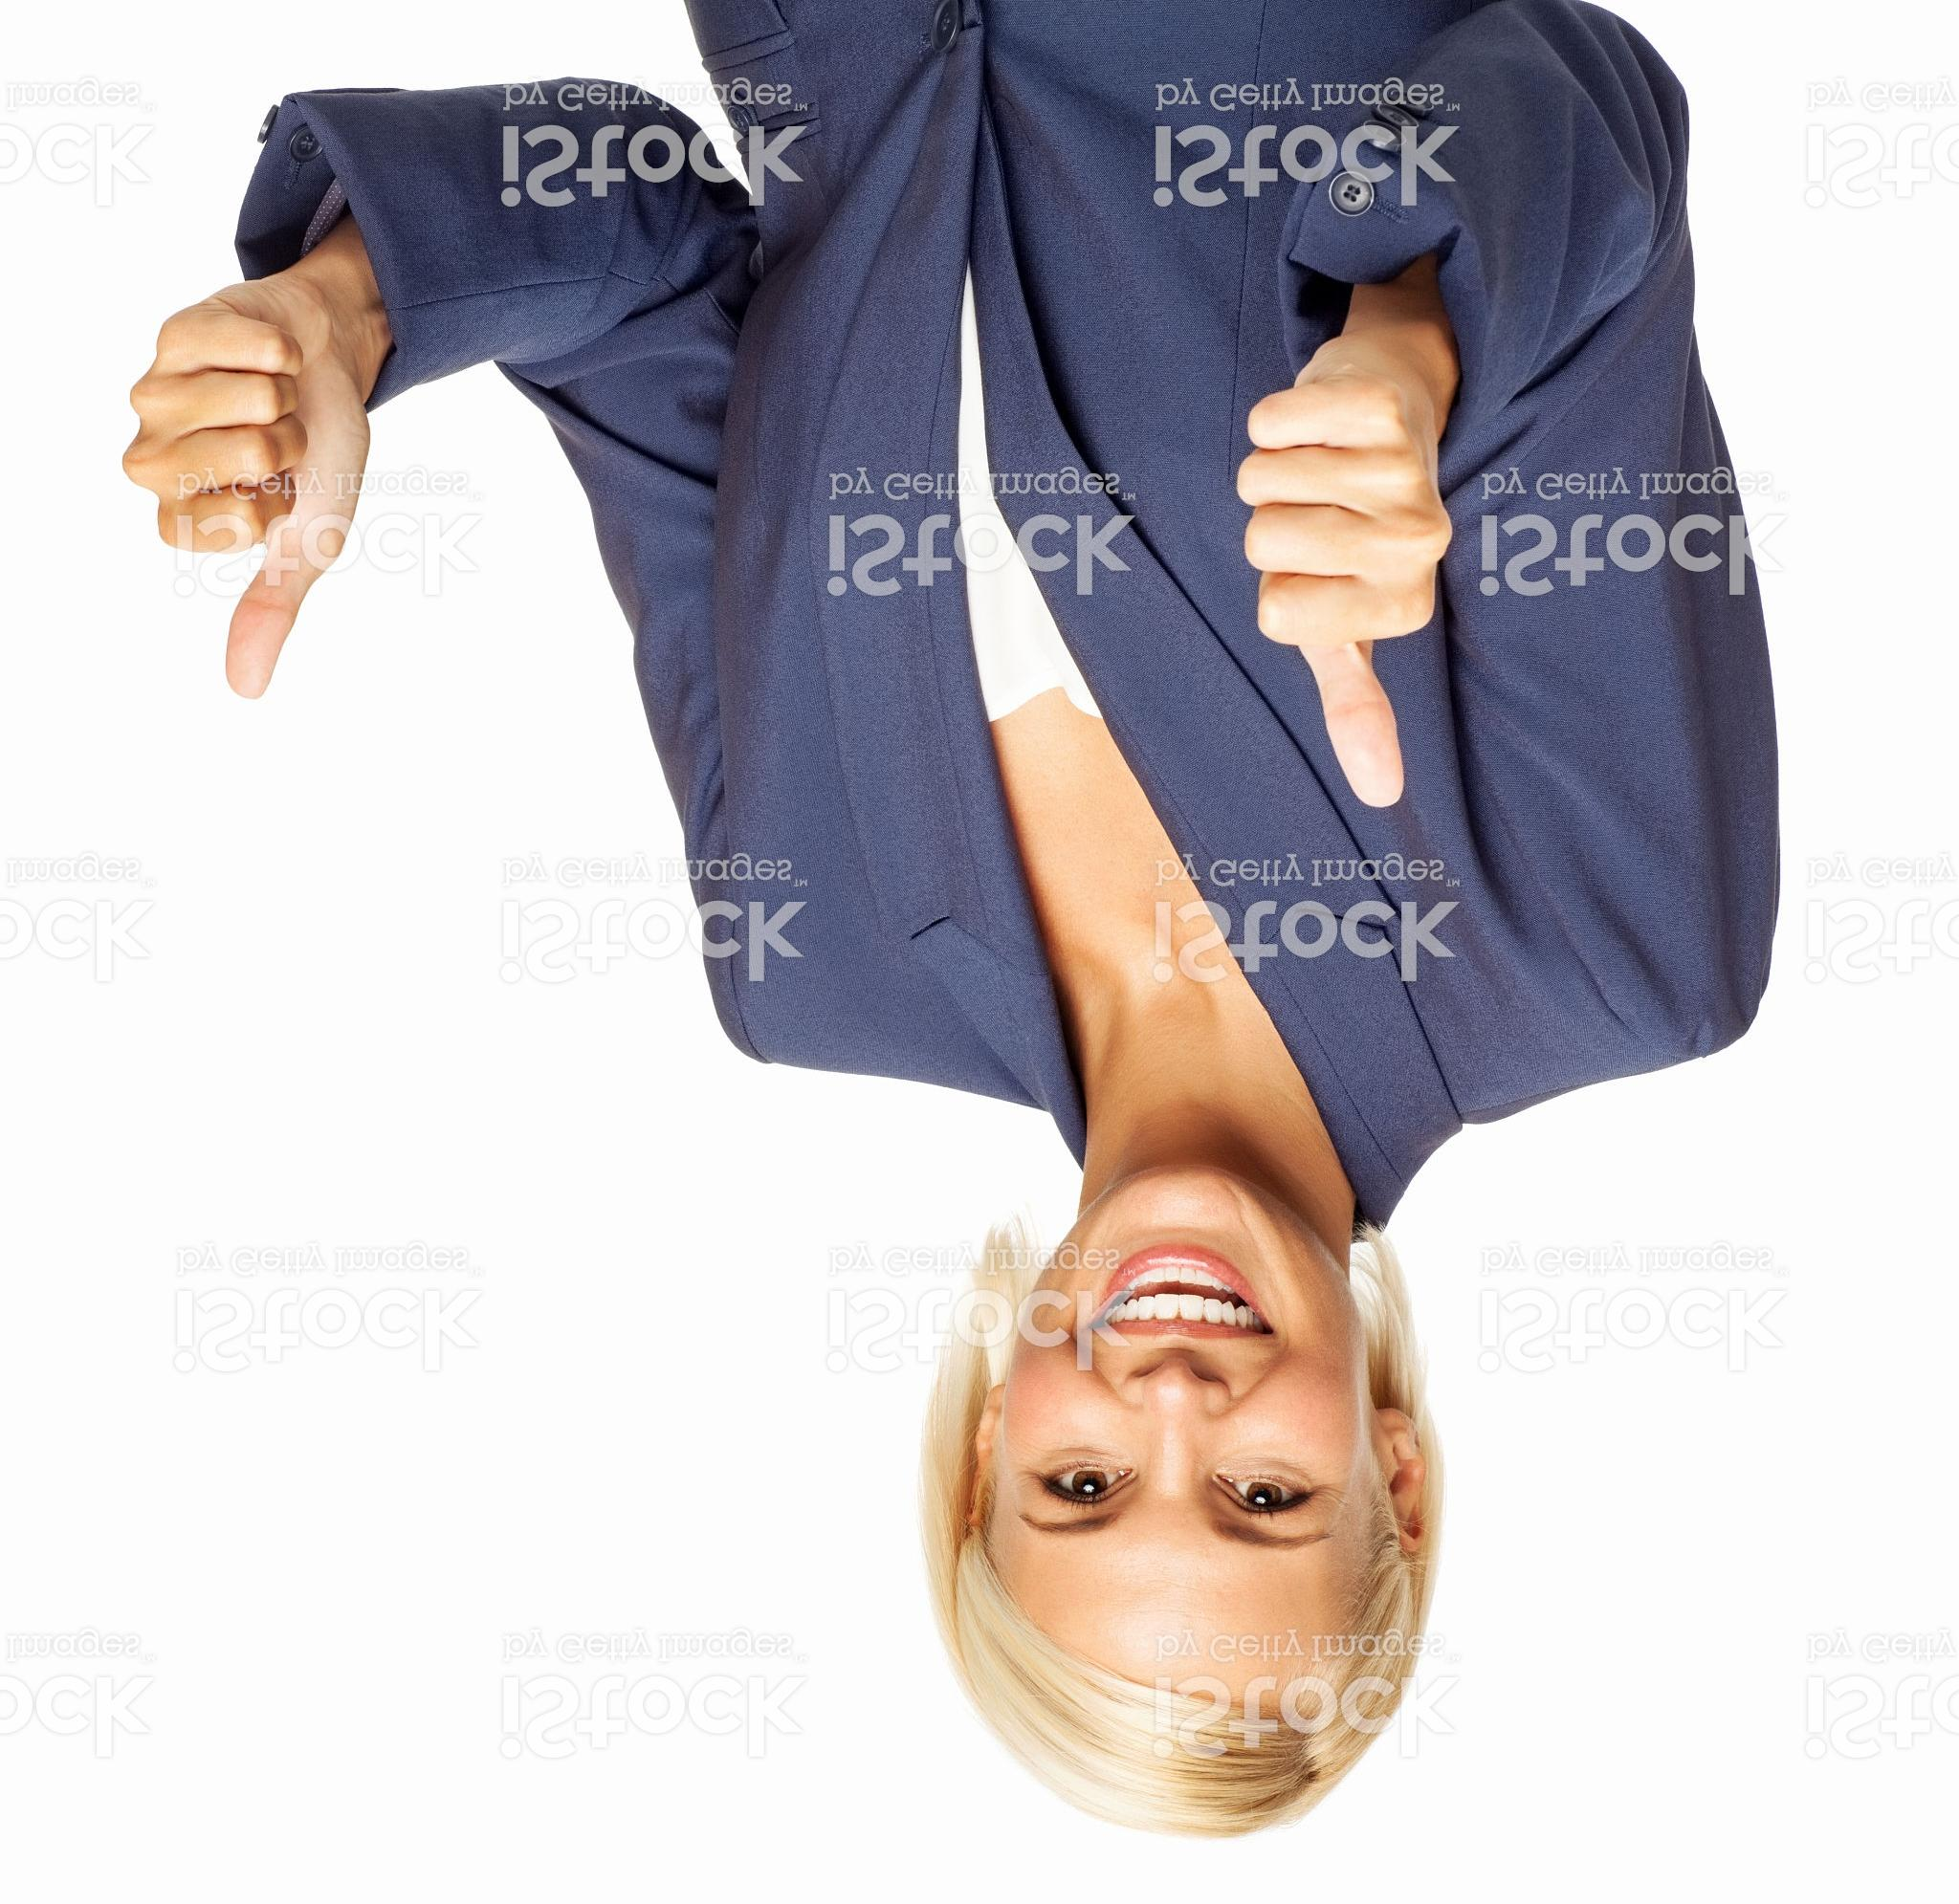thumbsdown: (115, 269, 378, 703), (1235, 355, 1455, 813)
